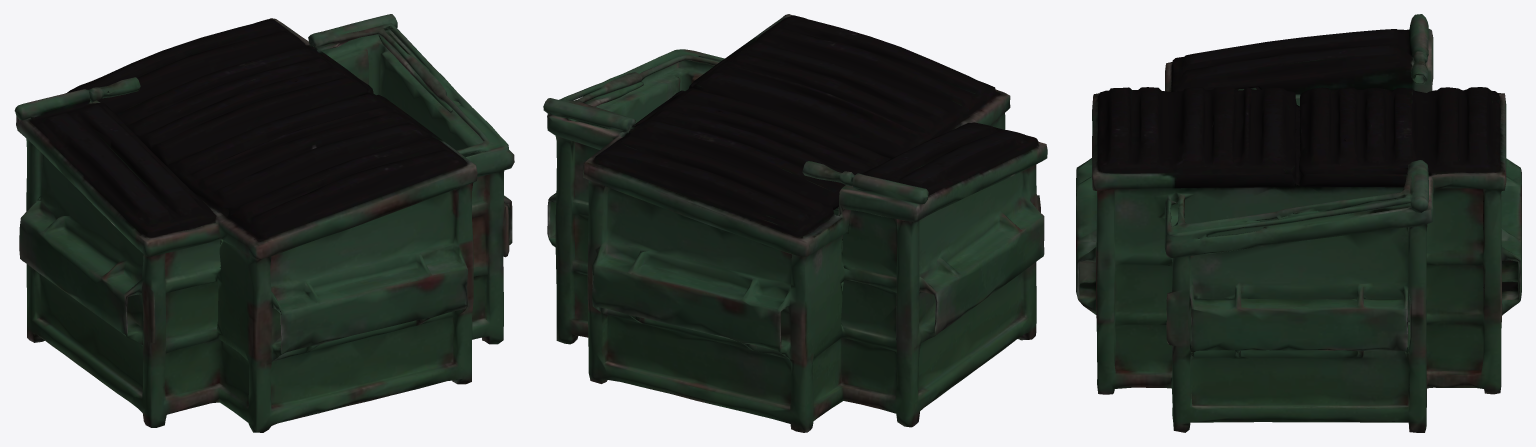
Rendered from dumpster.glb.
3 renders of one model, left to right at view 1: azimuth 30°, elevation 25°; view 2: azimuth 150°, elevation 25°; view 3: azimuth 270°, elevation 25°, orthographic.
Parts seen in each view (by area): view 1: world; view 2: world; view 3: world.
Boxes of the visible parts, x1,y1,x2,y2 form: world: (14,14,514,432); world: (543,14,1047,432); world: (1076,14,1521,432).
Size of the model in its own units: 1 by 0.5873 by 0.9857.
Materials: 1 (1 with a texture image).
